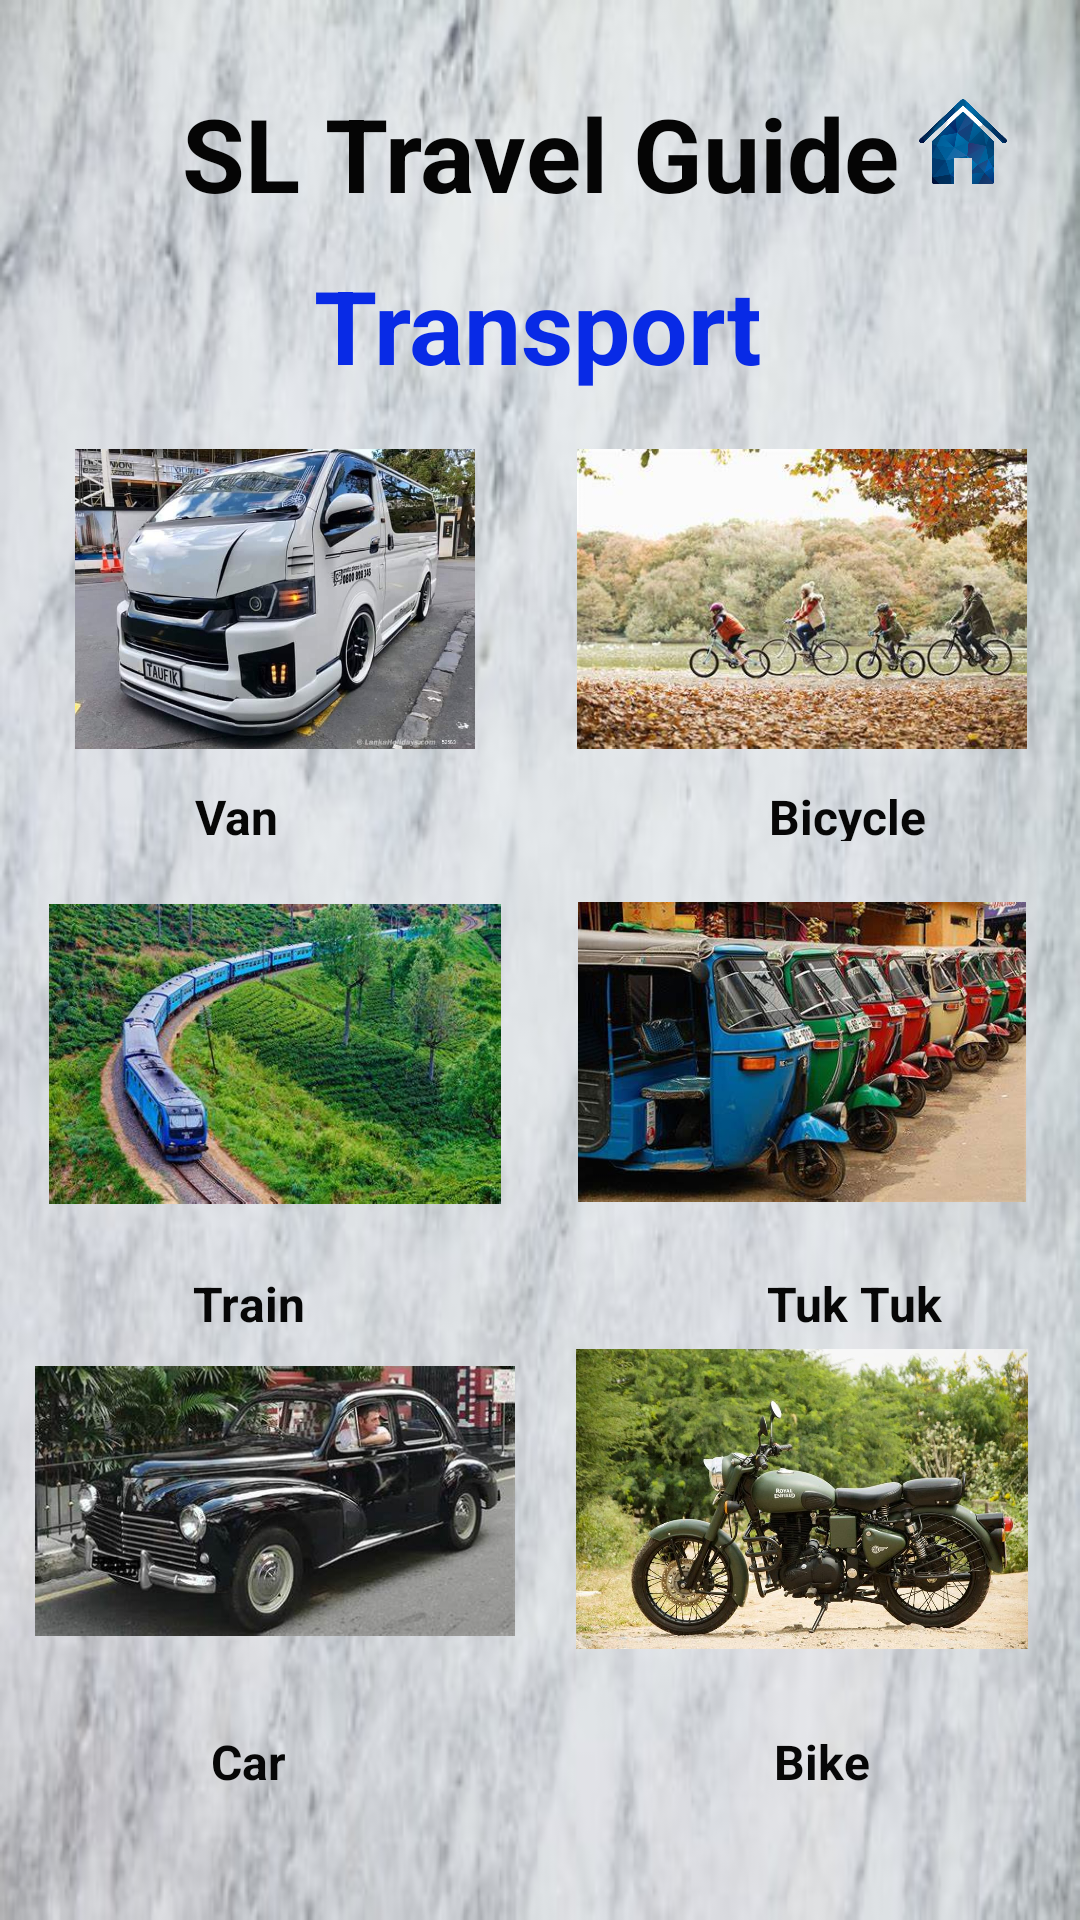

Named icons in this screenshot (1080×1920) and their centers, (x,y):
home: (975,137)
